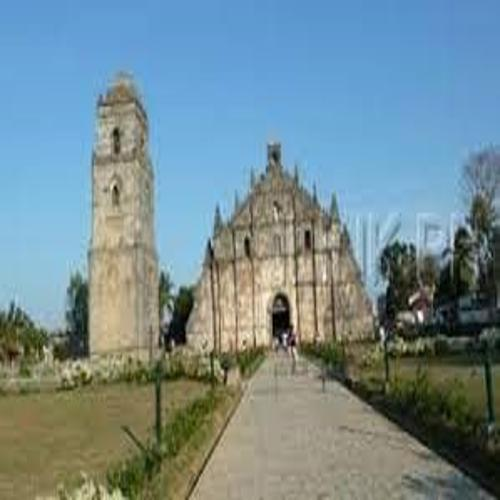Paoay Church: (78, 62, 384, 368)
